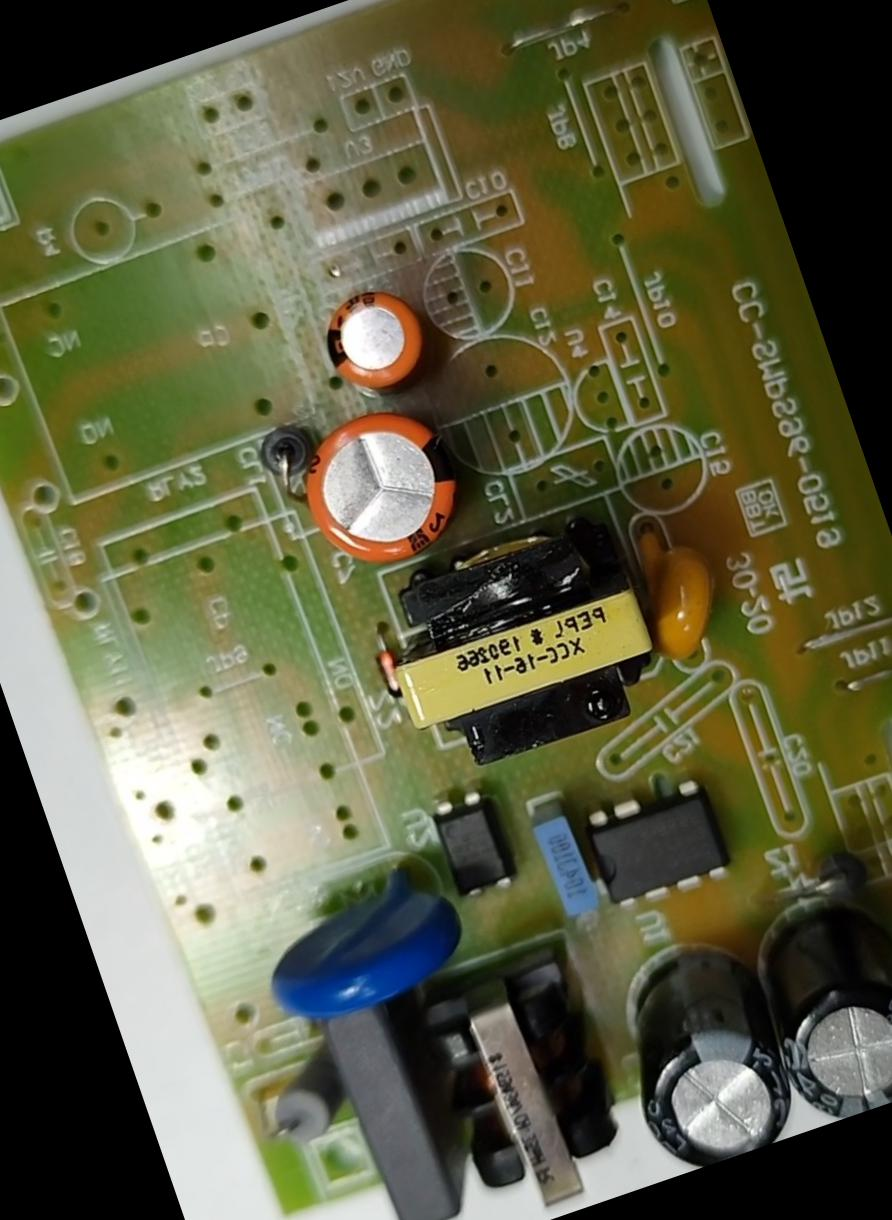Cap1: (276, 384, 491, 600)
Cap2: (301, 260, 454, 413)
Cap3: (584, 920, 814, 1182)
Cap4: (727, 872, 891, 1133)
MOSFET: (566, 762, 746, 927)
Mov: (232, 832, 487, 1042)
Resistor: (244, 1036, 372, 1160)
Transformer: (354, 486, 688, 793), (387, 923, 661, 1219)
